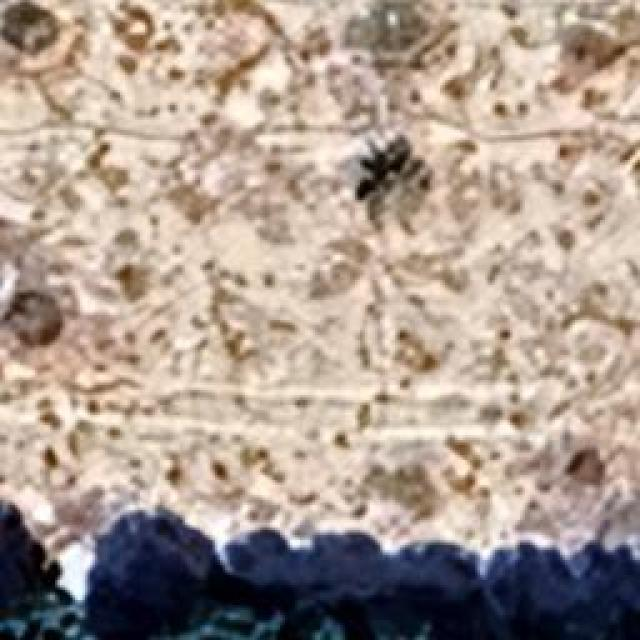PalmTree: (338, 137, 430, 235), (342, 0, 422, 52)
